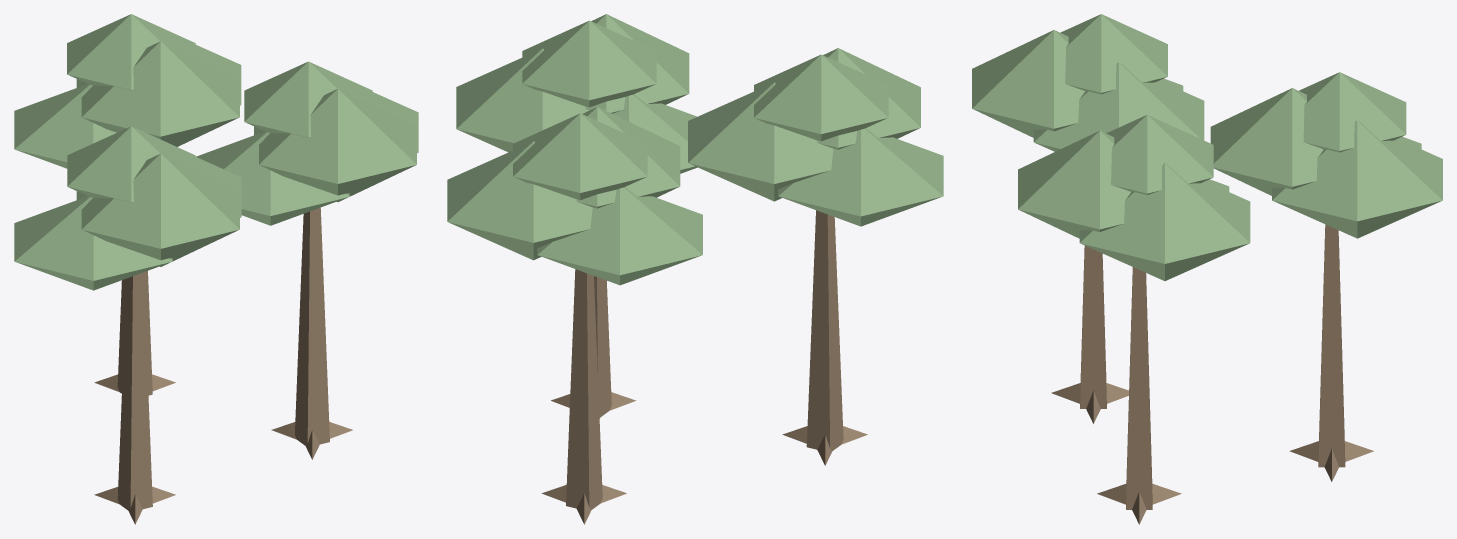
File: grove-2.glb
The picture shows the model from 3 angles, left to right: view 1: azimuth 30°, elevation 25°; view 2: azimuth 150°, elevation 25°; view 3: azimuth 270°, elevation 25°; orthographic projection. The views are drawn at different scales.
Size of the model in its own units: 5.67 by 4.69 by 5.13.
